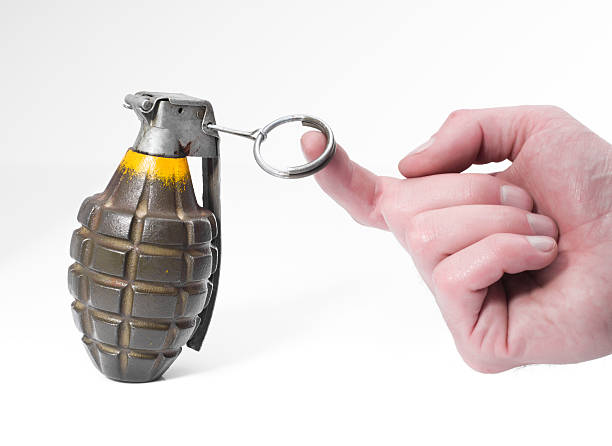e1: (61, 85, 312, 384)
